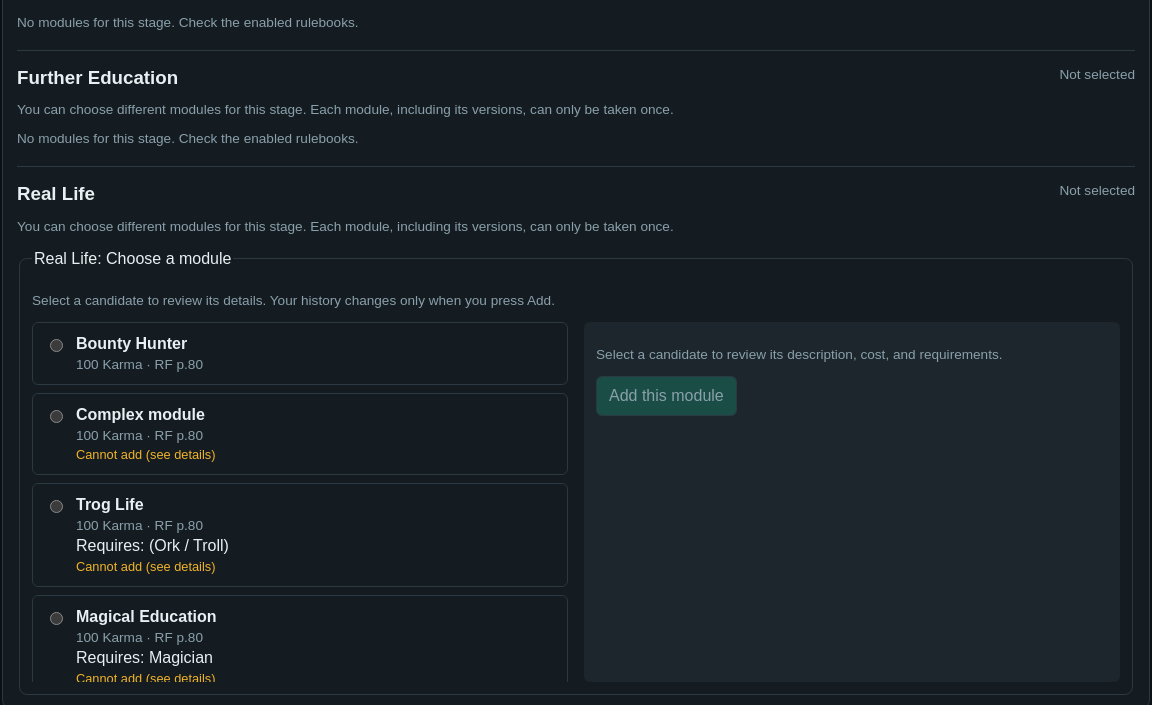
browses candidates without saving and adds only the explicitly confirmed candidate
The width and height of the screenshot is (1152, 705).
(page scrolled)
Click the radio button labelled "Bounty Hunter 100 Karma · RF p.80" at {"x": 56, "y": 345}, box 50,339 -> 63,352
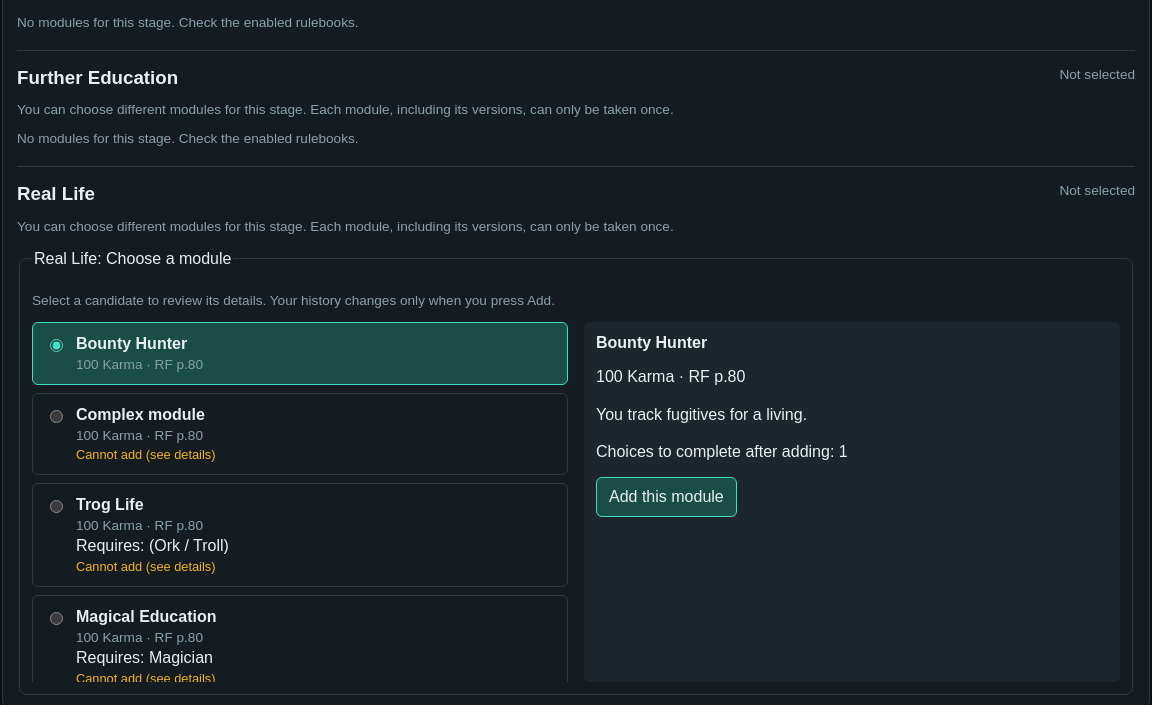
Click the radio button labelled "Magical Education" at {"x": 56, "y": 618}, box 50,612 -> 63,625
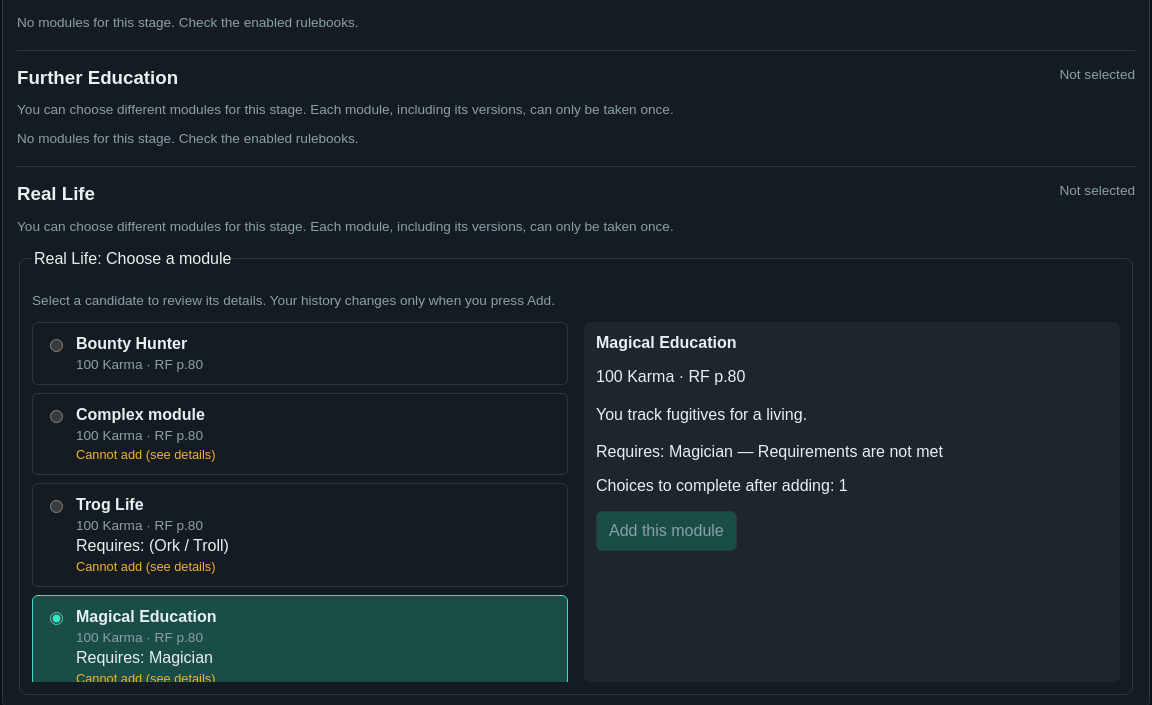
Click the radio button labelled "Bounty Hunter 100 Karma · RF p.80" at {"x": 56, "y": 345}, box 50,339 -> 63,352
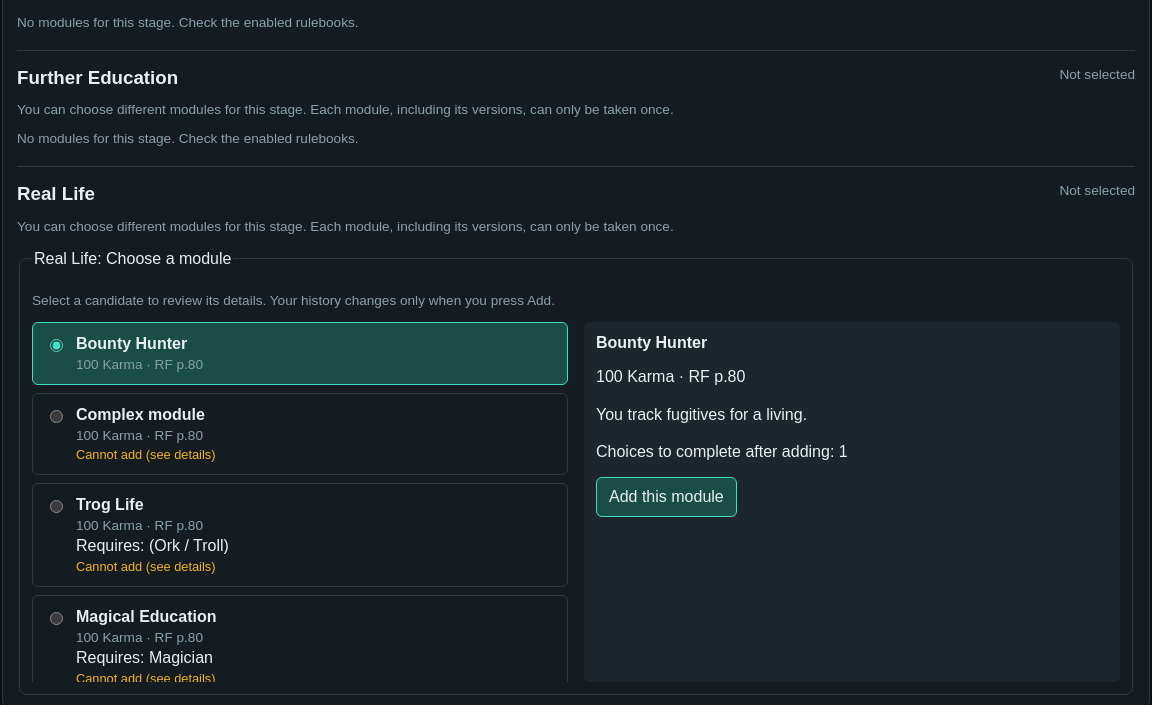
Click the button "Add this module" at {"x": 666, "y": 497}, box 596,477 -> 737,517
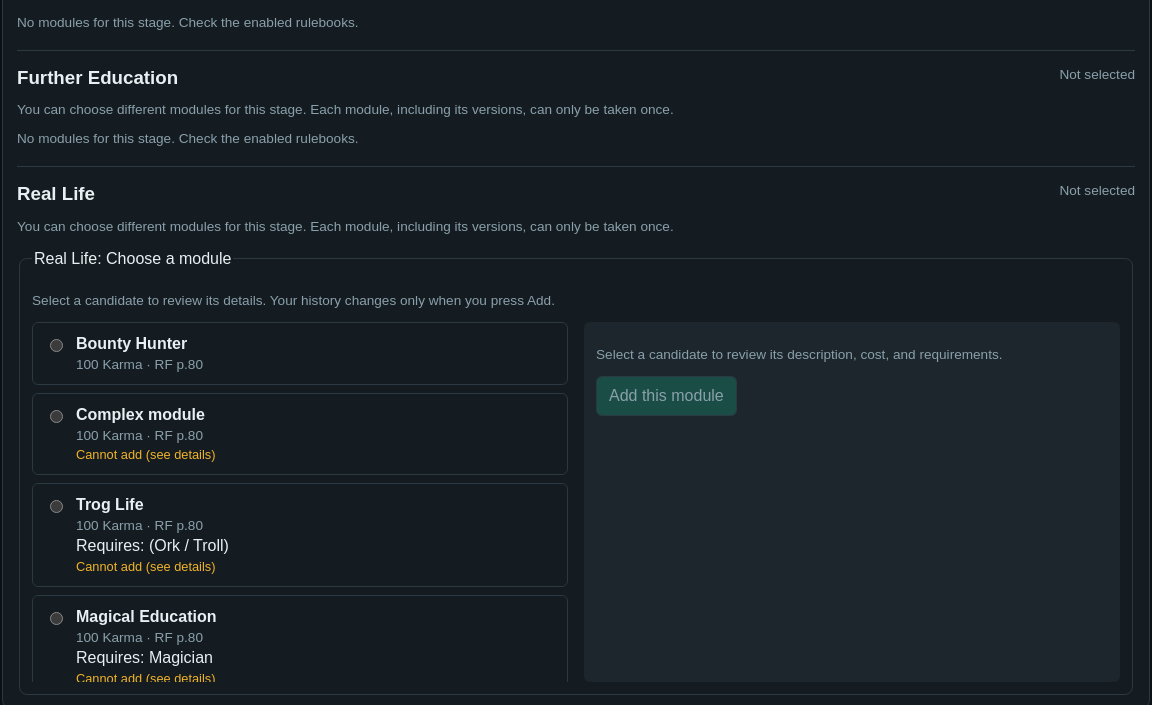
Expected: the button "Add this module" is disabled, 596,376 -> 737,416
